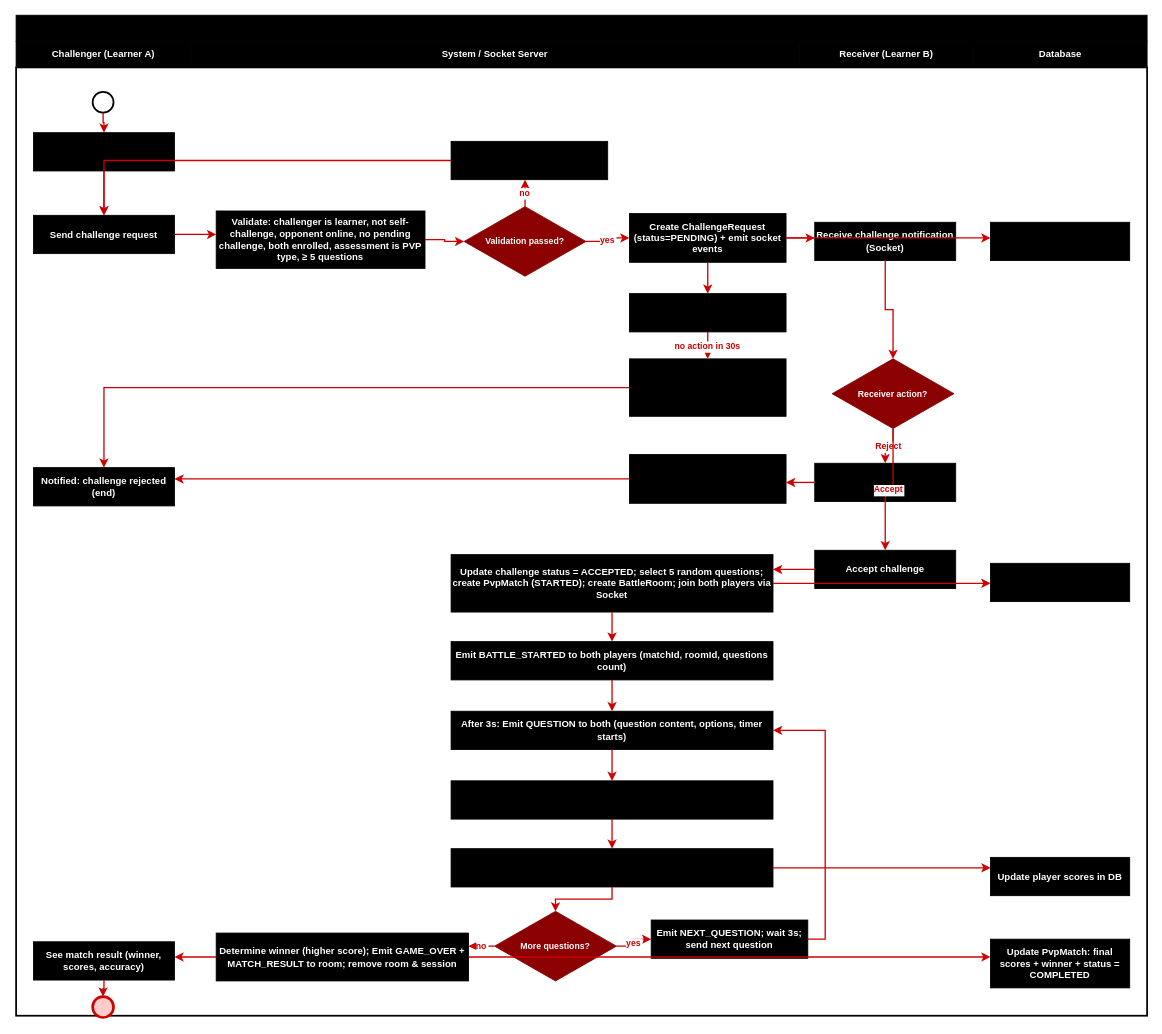
This 1162x1034 diagram has some shape labels left out. Here are the shapes that lost their labels. From the top down, the box of each, then its label:
(15, 14, 1147, 41): PvP Match flow
(33, 132, 174, 171): Browse leaderboard, pick opponent & course
(450, 141, 608, 180): Throw exception (return error to Challenger)
(990, 221, 1130, 261): Save ChallengeRequest to DB
(629, 293, 786, 332): Start 30s auto-expire timer
(629, 358, 786, 416): Auto-expire: update status = EXPIRED; emit CHALLENGE_EXPIRED to both
(629, 454, 786, 503): Update status = REJECTED; emit CHALLENGE_REJECTED to Challenger
(814, 462, 956, 502): Reject challenge
(990, 562, 1130, 602): Save PvpMatch record to DB
(450, 780, 773, 819): Both players submit answers (or timeout)
(450, 848, 773, 887): Validate answers, update scores; Emit SCORE_UPDATED to room
